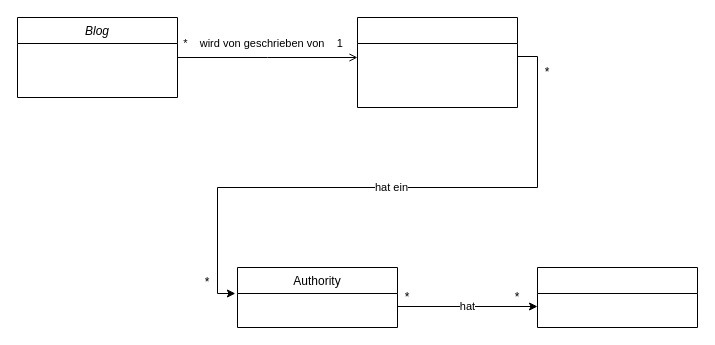
This 715x345 diagram has some shape labels left out. Each missing label, with the box of its shape:
Role: (536, 266, 698, 328)
User: (356, 16, 518, 108)
